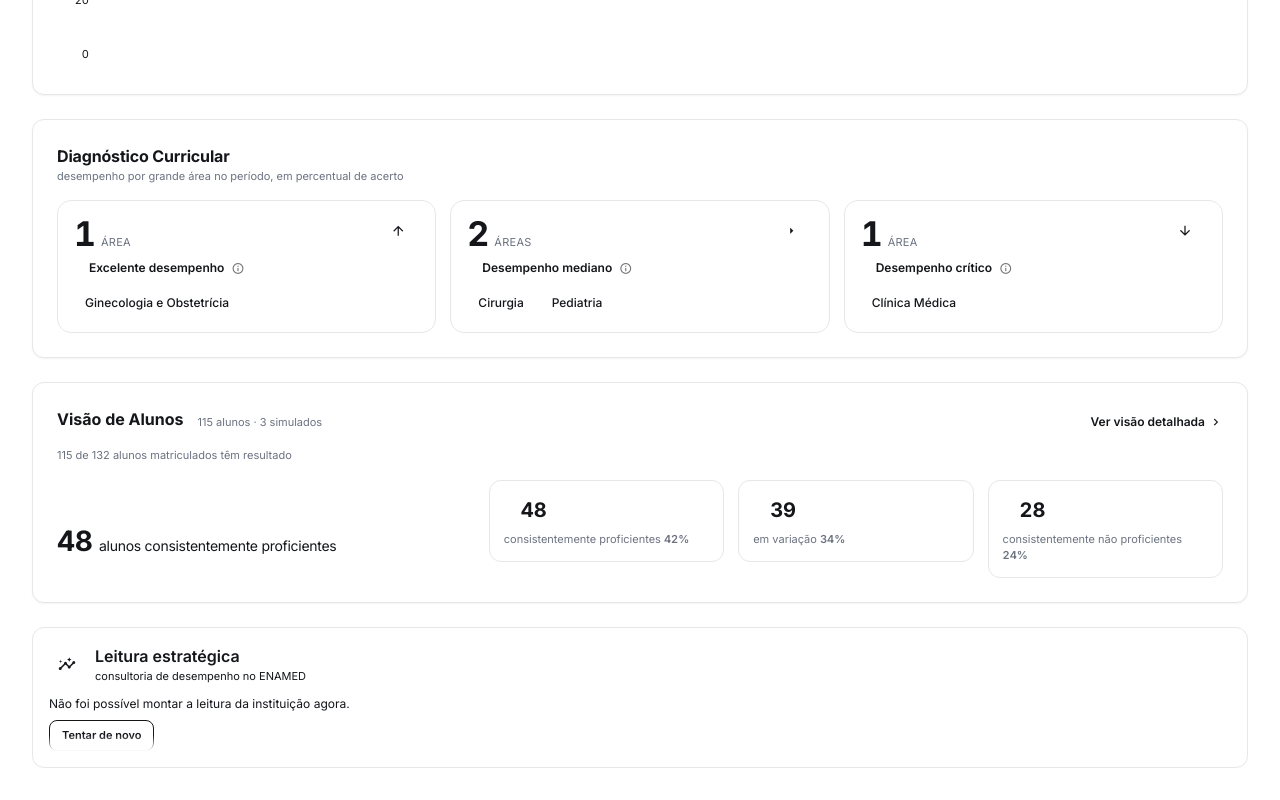
Test: rota VisaoGeral › erro em um bloco não deixa a tela em branco: KPIs seguem, só a tabela mostra erro
(page scrolled)
Step 1. Click the button with test id "link-visao-detalhada" → x=1157, y=422, box [1090,413,1223,431]
(page scrolled)
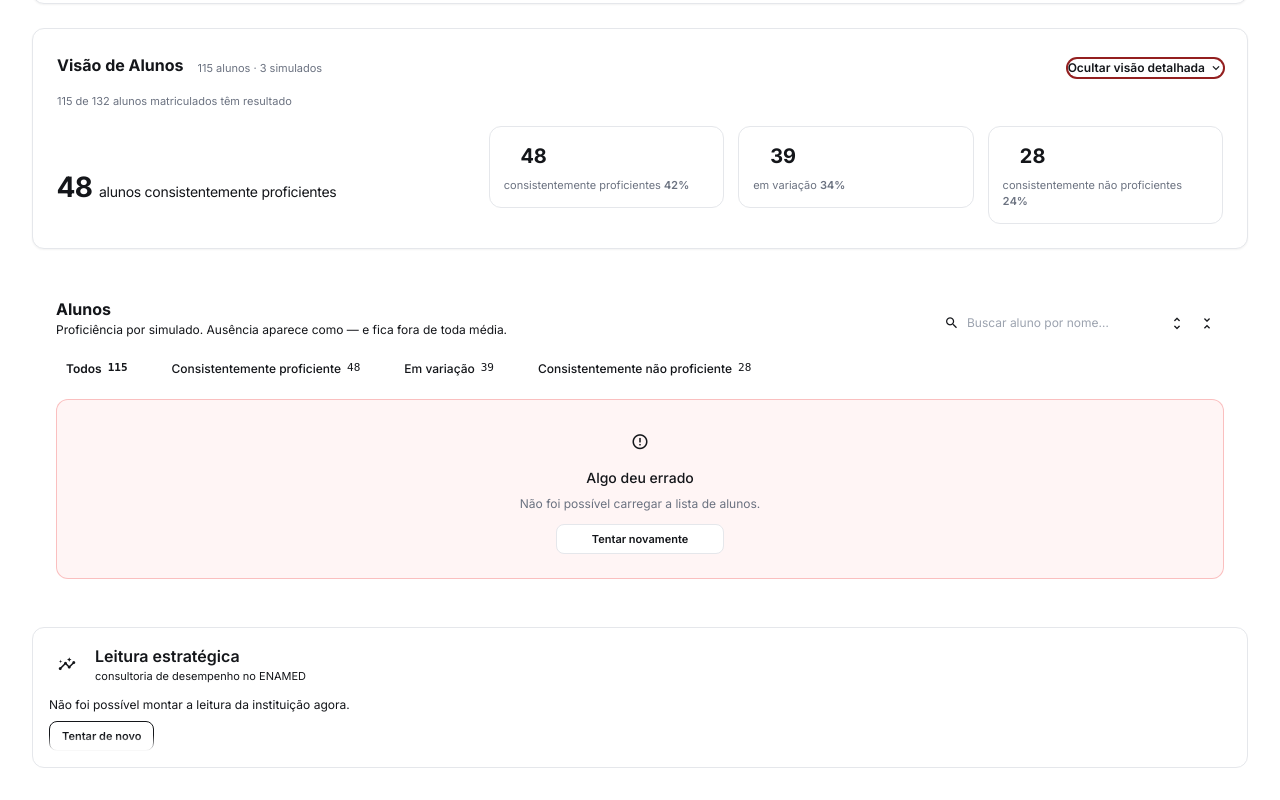
Now the element with test id "bloco-tabela-alunos" shows "Não foi possível carregar a lista de alunos", box [520,496,760,510]
